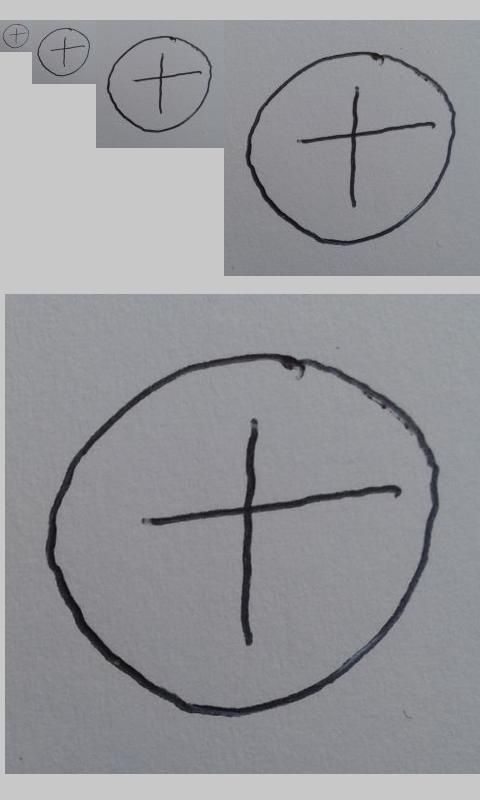button: (42, 351, 444, 720), (244, 50, 458, 246), (106, 35, 213, 133), (37, 27, 90, 77), (2, 23, 30, 49)
